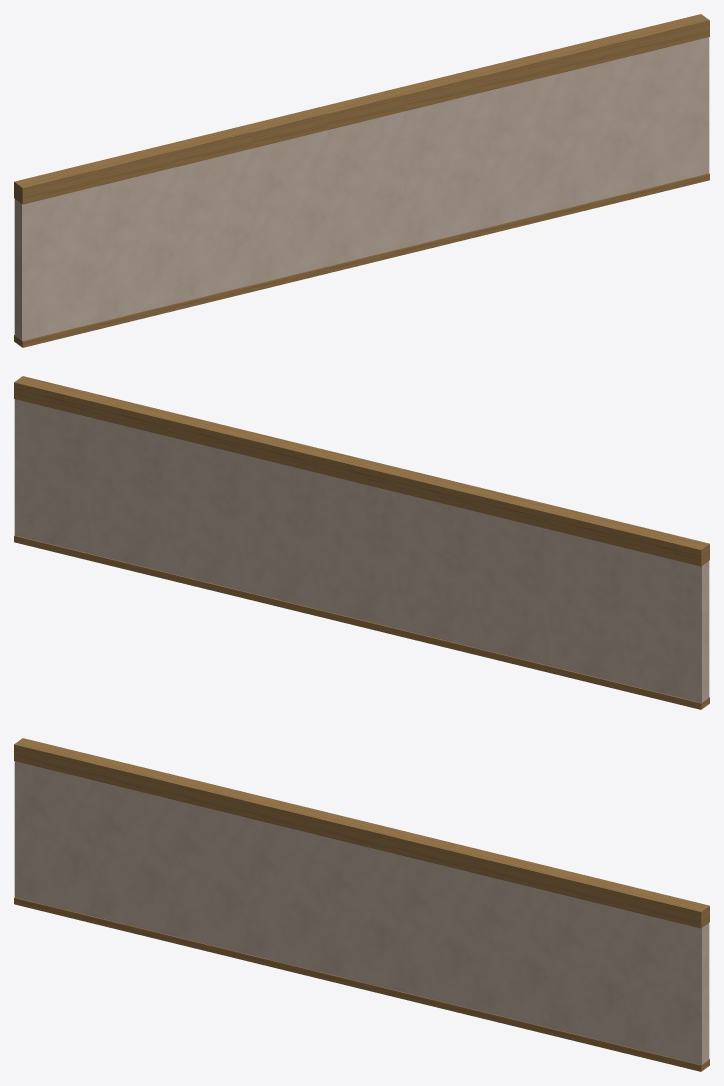
File: wall_9.fbx
3 renders of one model, top to bottom at view 1: azimuth 30°, elevation 25°; view 2: azimuth 150°, elevation 25°; view 3: azimuth 330°, elevation 25°, orthographic.
Visible parts, largest first — view 1: Cube.242; view 2: Cube.242; view 3: Cube.242.
Part boxes in pixels (<box>): Cube.242: <box>14,14,709,347</box>; Cube.242: <box>14,376,709,709</box>; Cube.242: <box>14,738,709,1071</box>.
Bounding box in the file's own units: 900 × 200 × 20.
